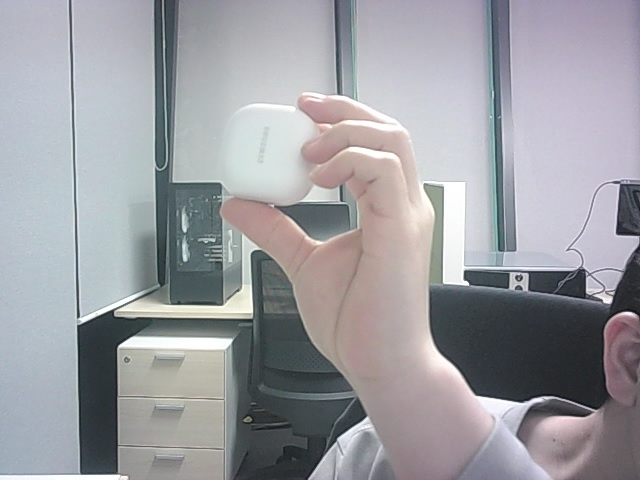case: (220, 103, 317, 205)
